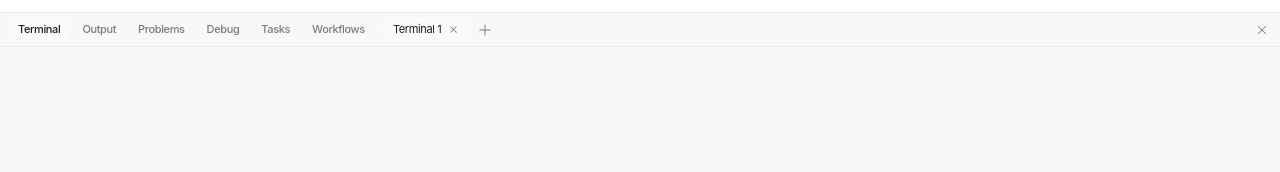
Test case: TerminalPanel › output 视图无输出时显示空状态
Click the tab with class "terminal-panel__view-tab" showing "Output" at (99, 30), box [72, 17, 126, 42]
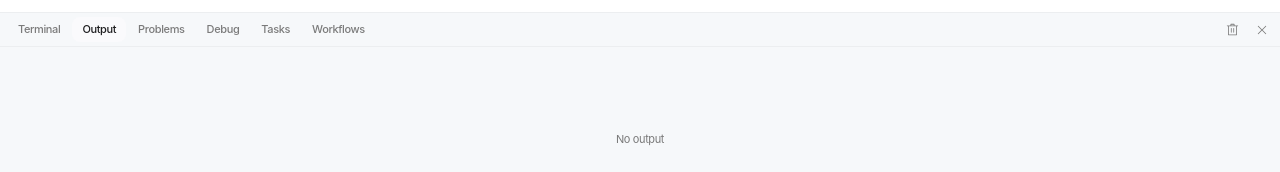
expect the text "No output" is shown: met, box [616, 132, 664, 146]
